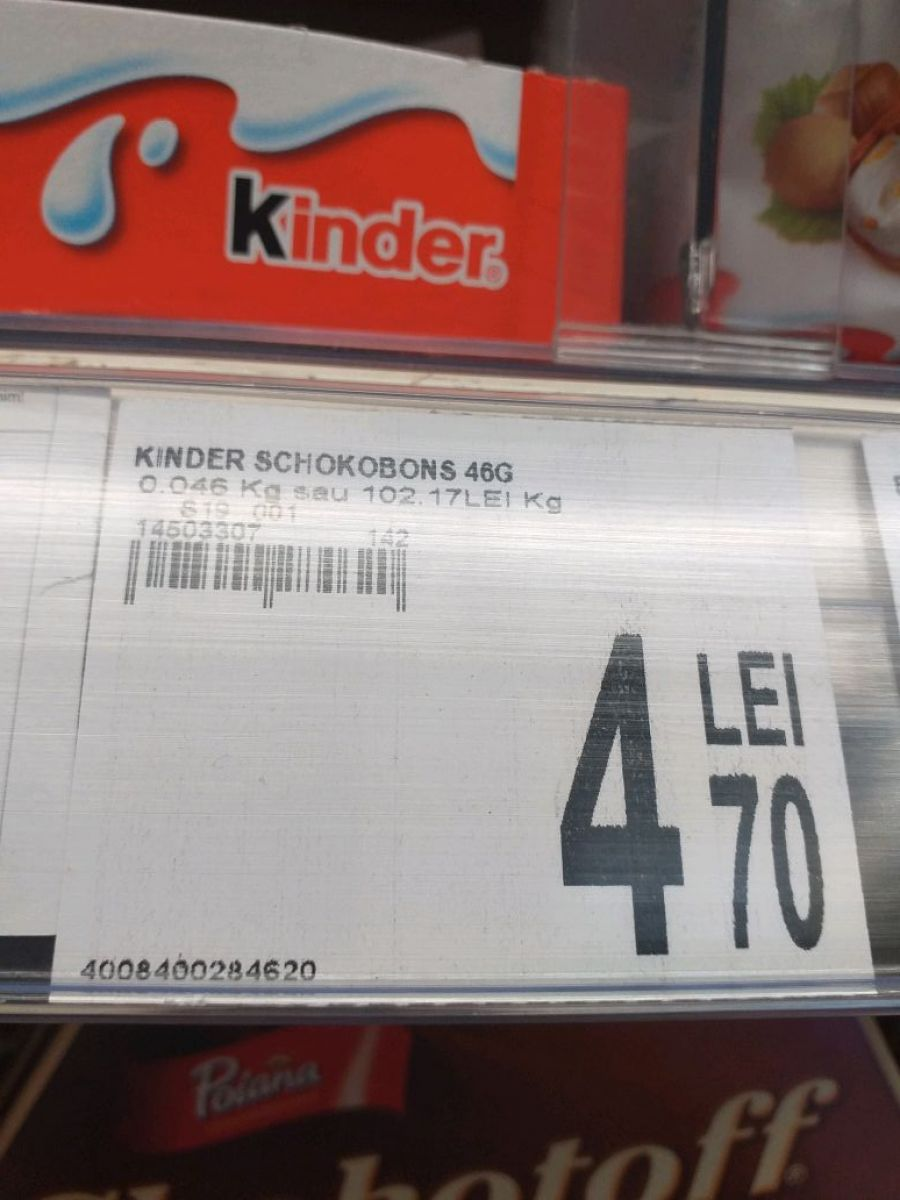bardcode: (78, 956, 323, 983)
list: (48, 385, 883, 999)
name: (128, 442, 518, 488)
price: (550, 630, 832, 964)
